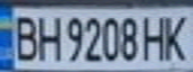0: (100, 14, 121, 63)
2: (81, 12, 103, 63)
8: (118, 12, 142, 63)
9: (60, 12, 84, 62)
B: (9, 11, 42, 62)
H: (139, 11, 172, 62), (33, 11, 63, 62)
K: (160, 10, 193, 62)
